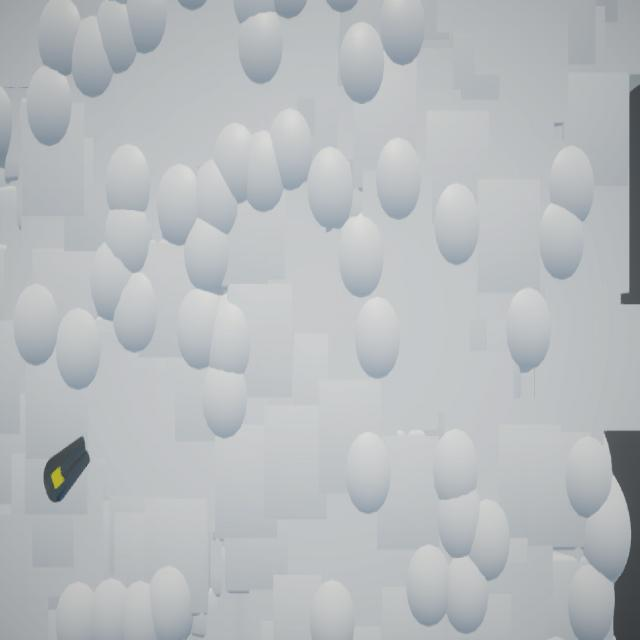handle_folk: (44, 436, 92, 503)
